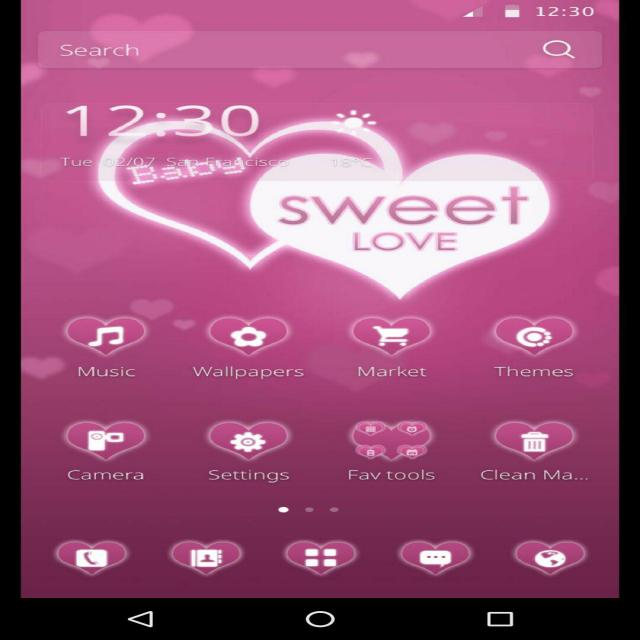button: (467, 303, 597, 388), (40, 408, 174, 485), (331, 416, 459, 493), (331, 302, 441, 383), (185, 414, 307, 486), (477, 412, 594, 486), (48, 307, 153, 383), (192, 312, 293, 384), (157, 537, 254, 581), (390, 533, 473, 576), (274, 538, 364, 577), (36, 540, 139, 574), (509, 535, 586, 578), (534, 38, 578, 61)
icon: (303, 102, 420, 174), (540, 33, 587, 60)
image: (24, 3, 618, 601), (50, 36, 582, 68), (461, 298, 590, 392), (330, 410, 454, 498), (463, 413, 591, 496), (44, 406, 177, 485), (337, 301, 453, 391), (187, 408, 305, 491), (56, 302, 165, 388), (196, 307, 299, 384), (386, 536, 485, 579), (277, 535, 368, 581), (44, 536, 143, 576), (412, 1, 540, 31), (509, 539, 596, 583), (156, 543, 258, 579)
text: (48, 88, 283, 194), (50, 42, 208, 63), (473, 462, 582, 488), (340, 466, 452, 489), (204, 361, 313, 383), (333, 360, 441, 382), (198, 464, 301, 487), (486, 364, 590, 384), (534, 1, 614, 23), (56, 468, 170, 483), (72, 362, 151, 378)
